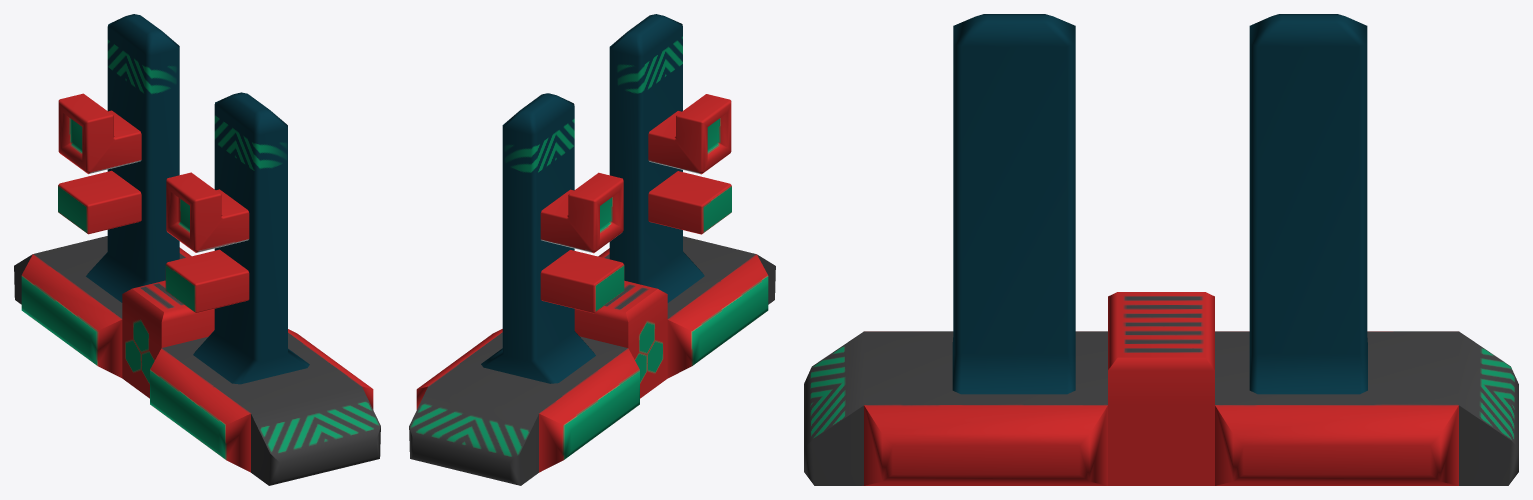
Rendered from SM_Props_02.fbx.
The picture shows the model from 3 angles, left to right: view 1: azimuth 30°, elevation 25°; view 2: azimuth 150°, elevation 25°; view 3: azimuth 270°, elevation 25°; orthographic projection. The views are drawn at different scales.
Visible parts, largest first — view 1: SM_Props_02; view 2: SM_Props_02; view 3: SM_Props_02.
Part boxes in pixels (x1=…): SM_Props_02: x1=14, y1=14, x2=380, y2=485; SM_Props_02: x1=409, y1=14, x2=775, y2=485; SM_Props_02: x1=804, y1=14, x2=1518, y2=485.
Bounding box in the file's own units: 26.07 × 76.45 × 50.92.
1 material, 1 textured.
